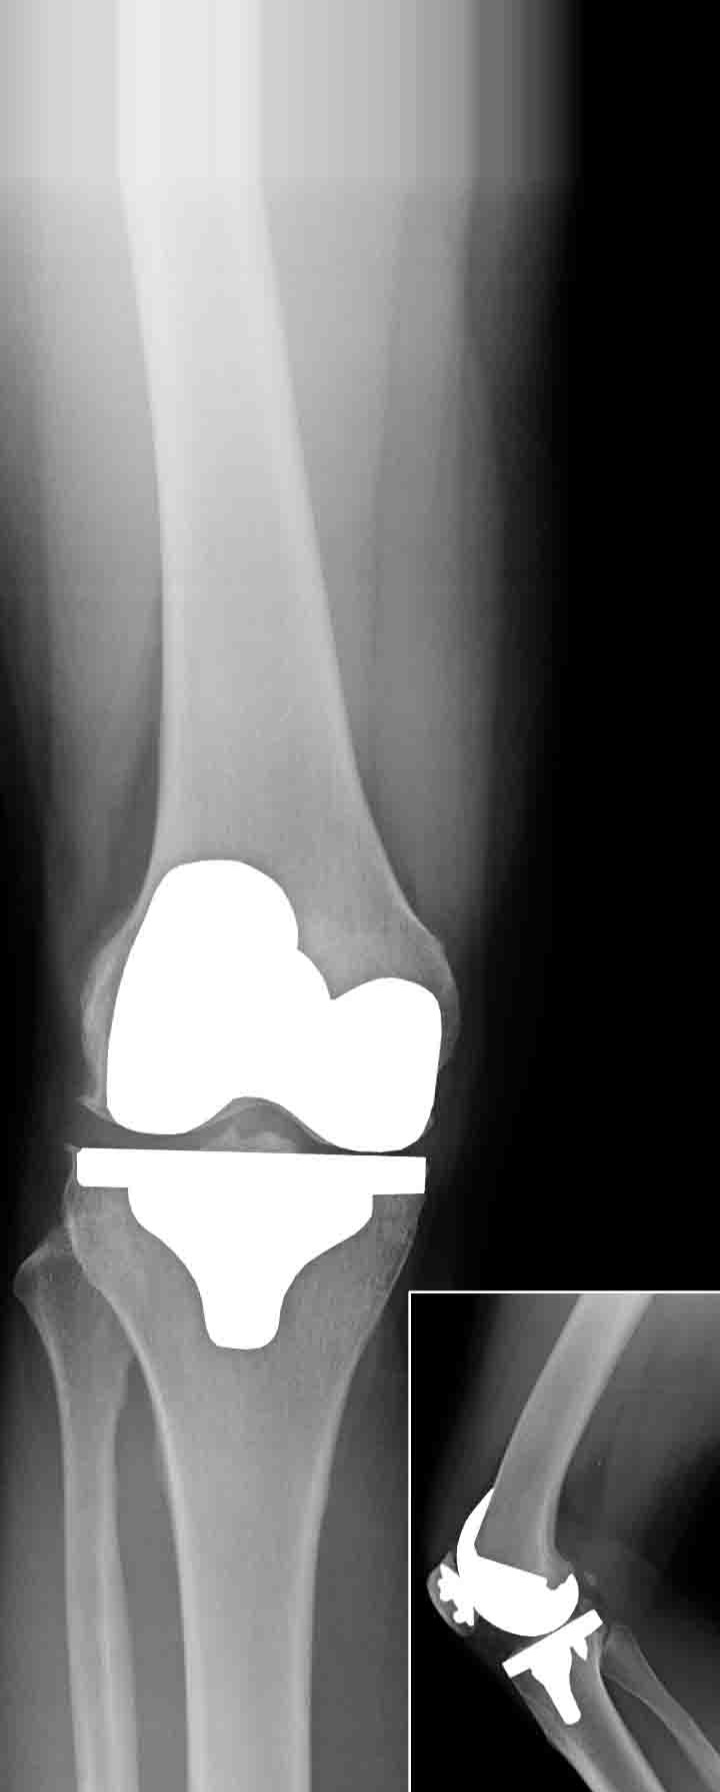Knee-TriathlonTritanium-Stryker: (79, 831, 455, 1359), (438, 1470, 603, 1737)
